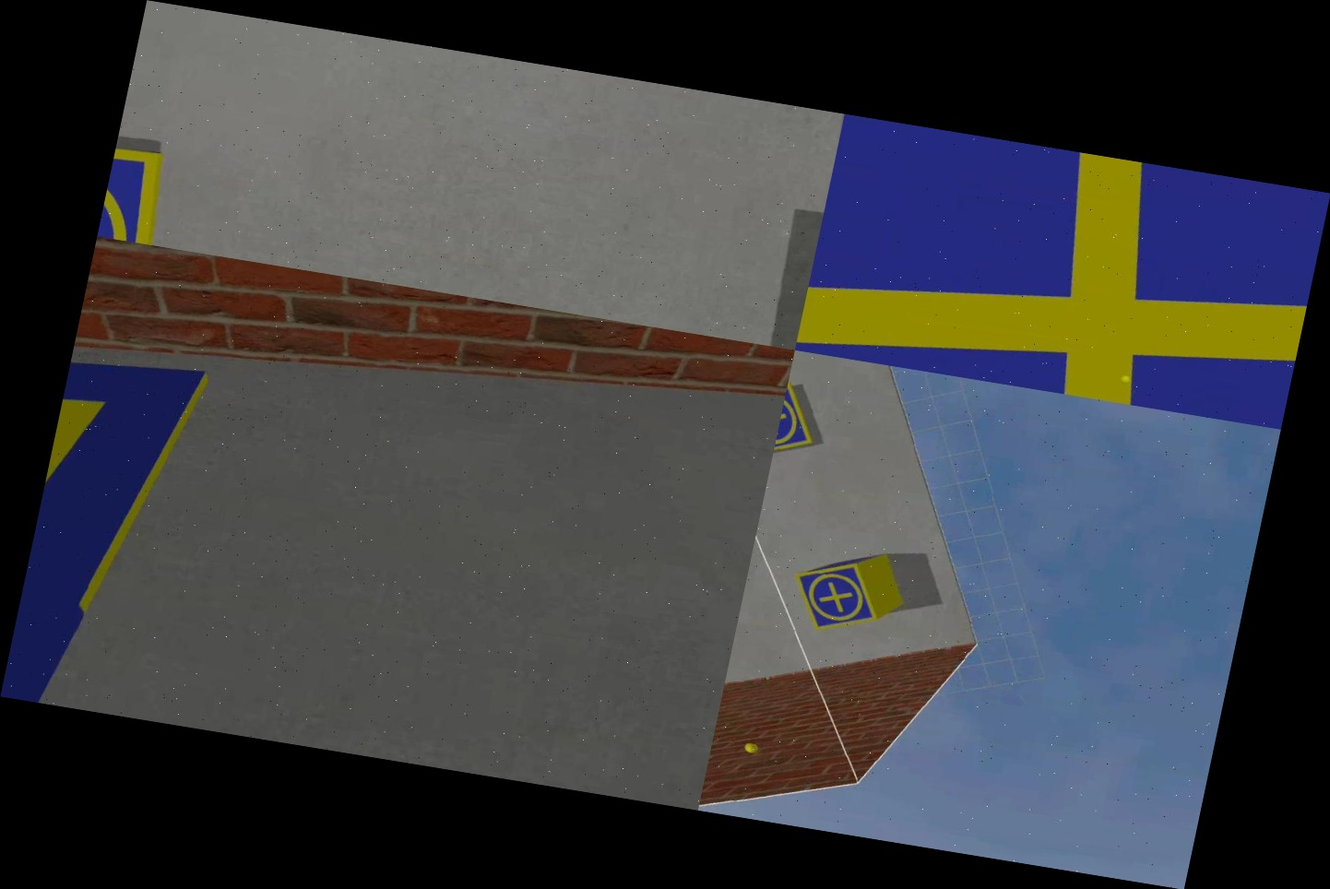large_base: (0, 349, 222, 720)
small_base: (795, 114, 1330, 430), (786, 553, 889, 640), (772, 381, 827, 464)
